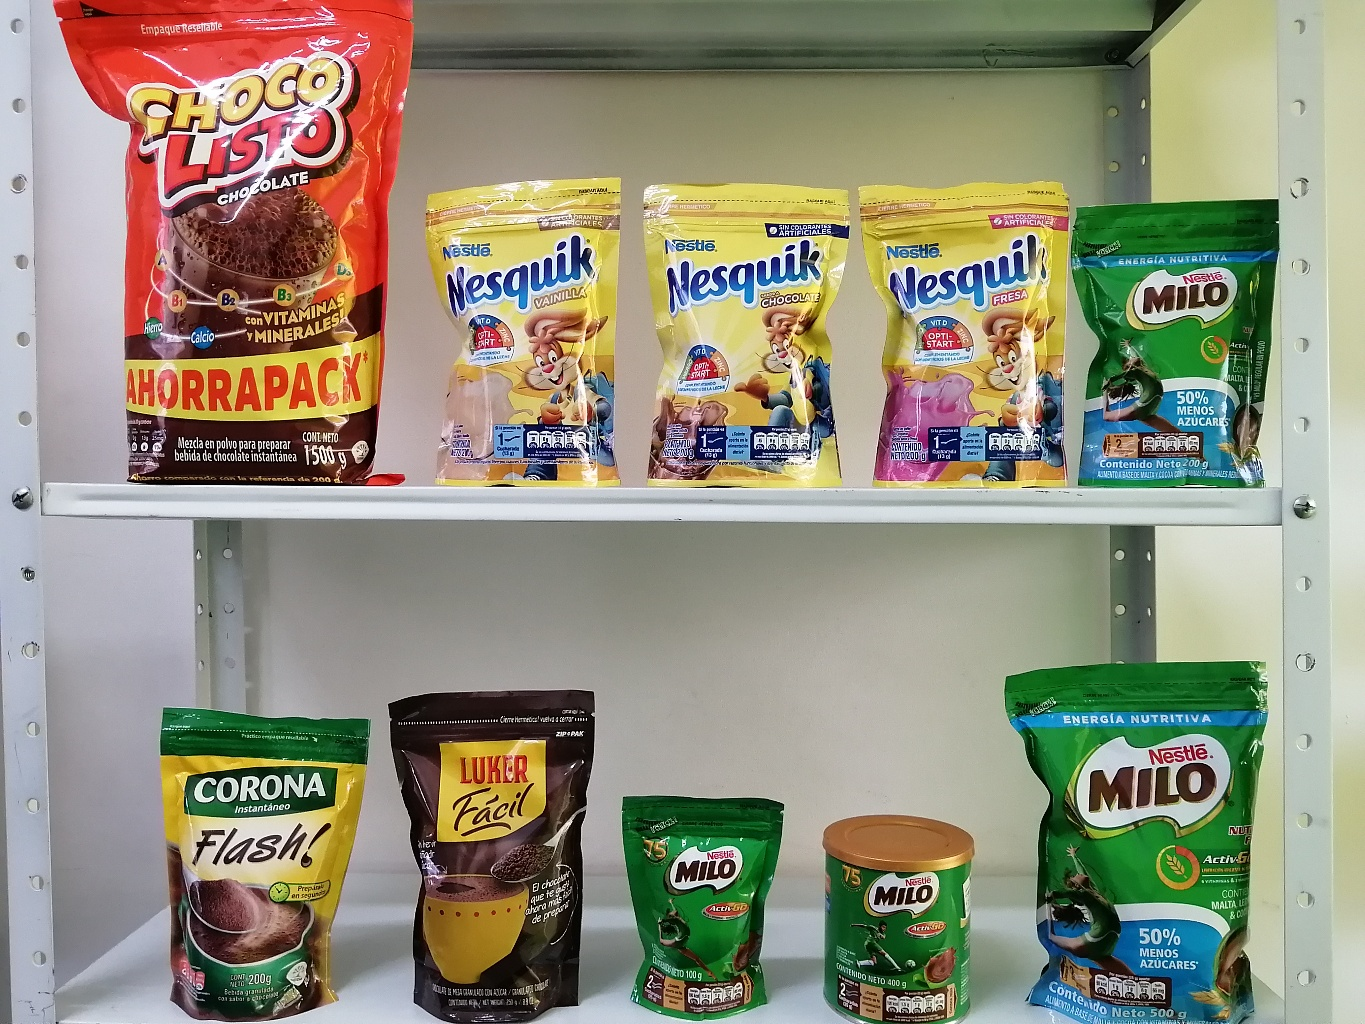COL0170103DYP1,500: (47, 2, 428, 482)
COL0170203DYP10000: (613, 781, 797, 1016)
COL0170203LAT40000: (811, 800, 993, 1021)
COL0170205DYP20000: (1075, 189, 1278, 486)
COL0170205DYP50000: (997, 653, 1275, 1021)
COL0170303DYP20000: (627, 171, 870, 493)
COL0170305DYP20000: (850, 166, 1081, 484)
COL0170306DYP20000: (420, 163, 623, 485)
